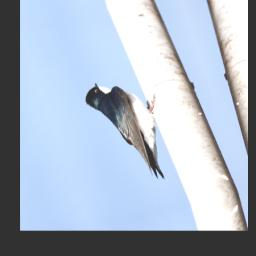Swallow: (80, 69, 184, 192)
